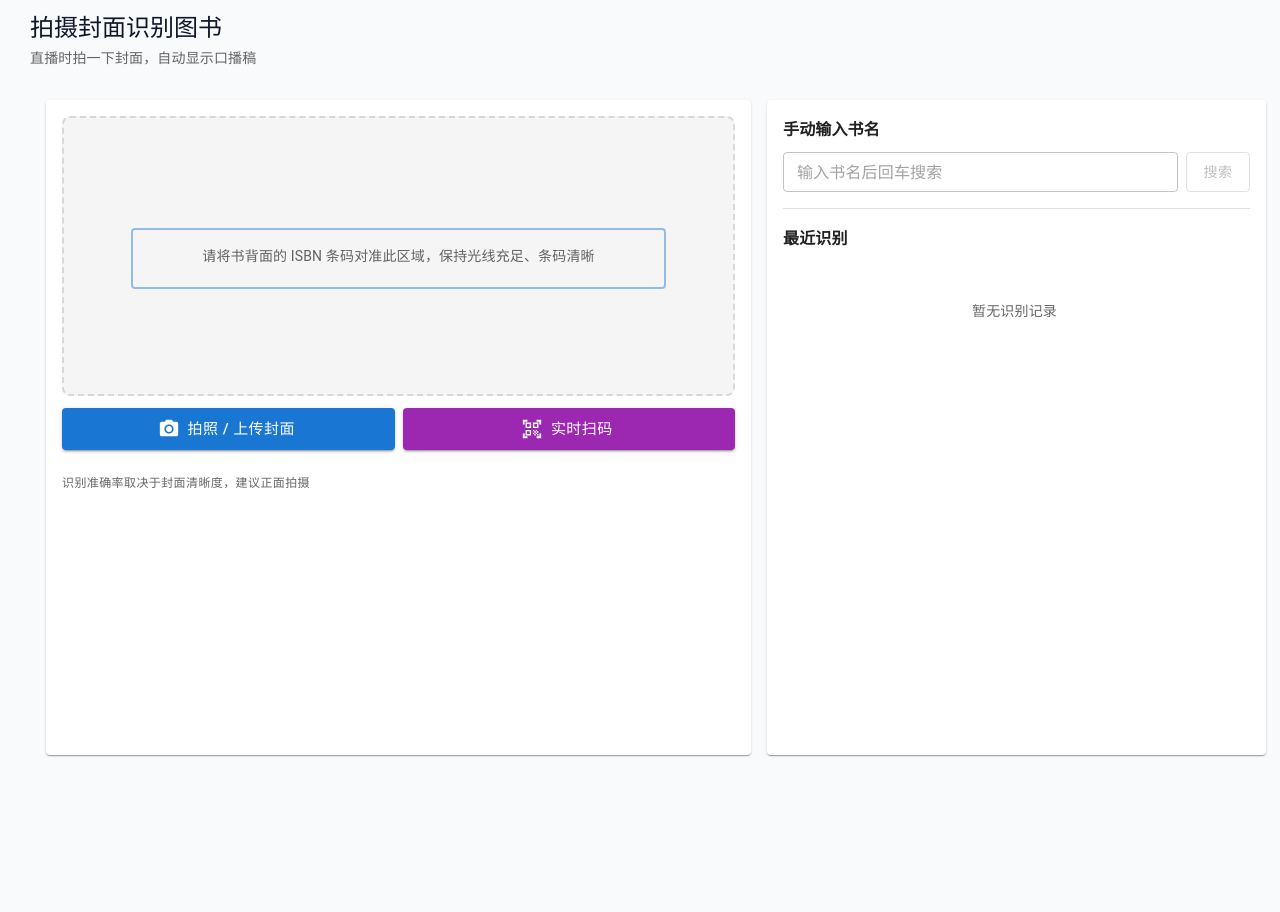
Scenario: ScanCover › shows no results message after manual search returns empty
Type "xyz-unknown" into the field with placeholder "输入书名后回车搜索".
click(980, 172); type("xyz-unknown")  # box [783,152,1178,192]
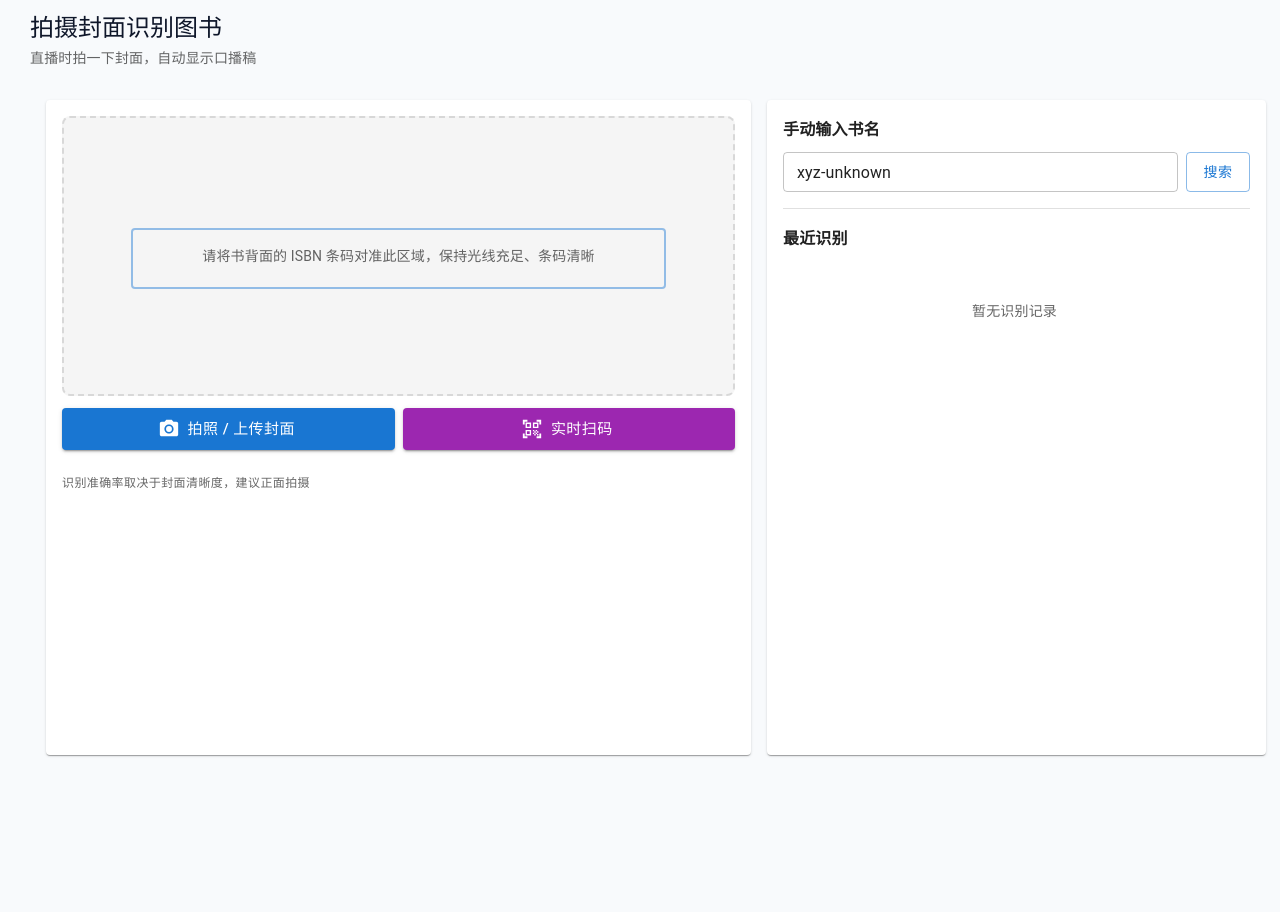
Click the button "搜索".
click(1218, 172)  # box [1186,152,1250,192]
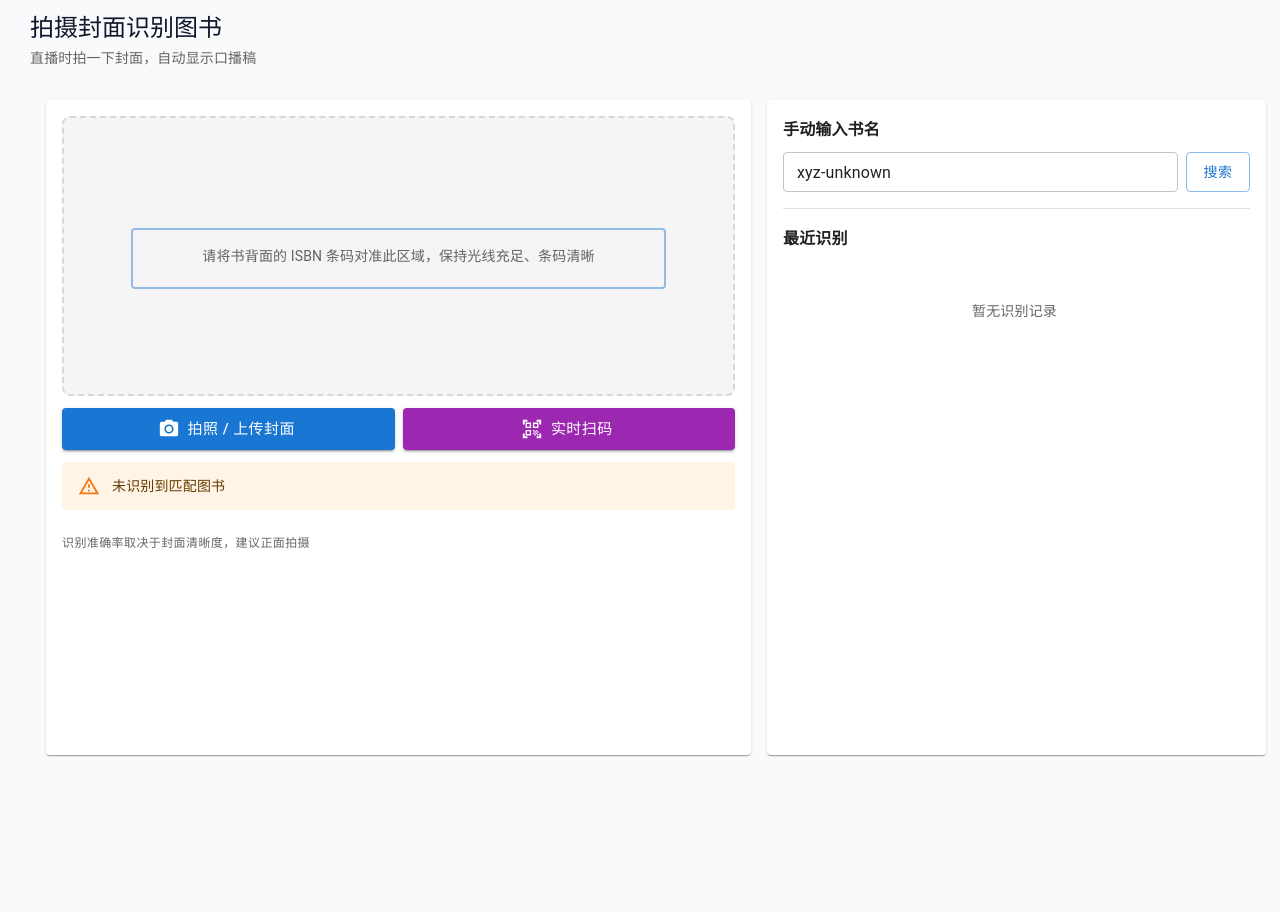
Expected: the text "未识别到匹配图书" is shown, [112,478,225,494]
